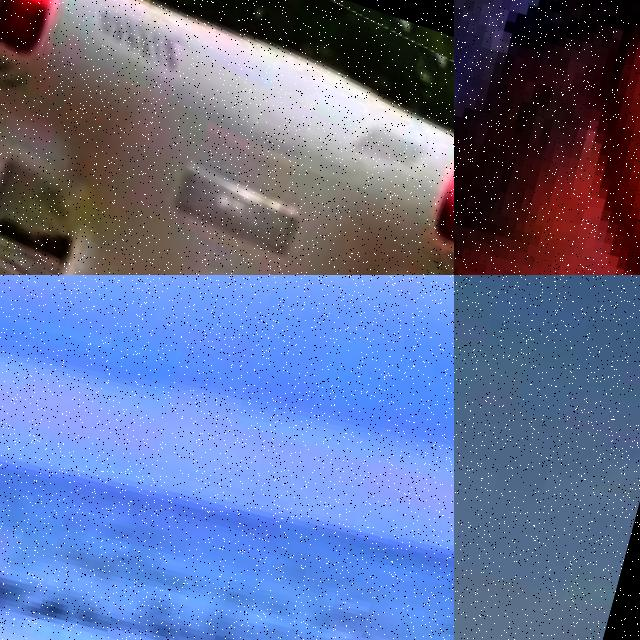drone: (0, 0, 454, 275)
